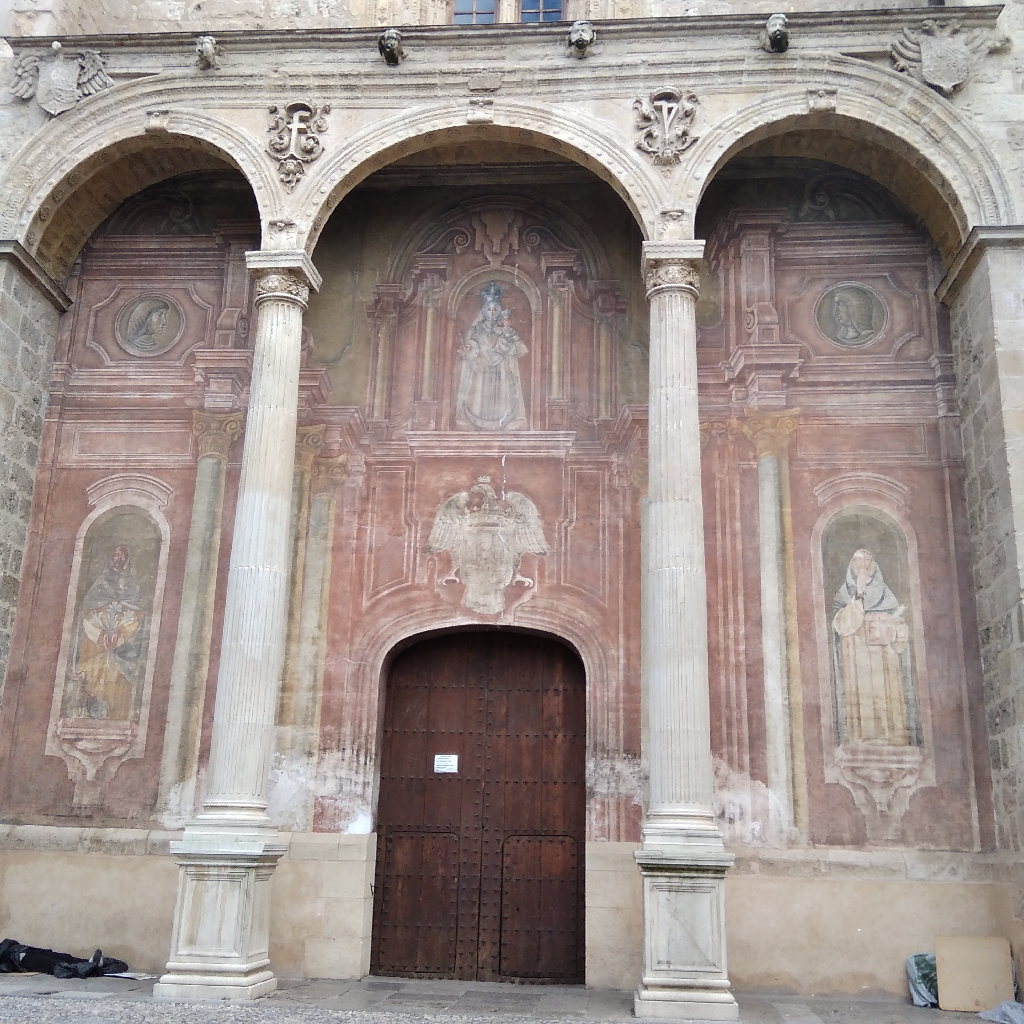arco-medio-punto: (291, 105, 669, 309), (675, 94, 983, 311), (8, 130, 272, 316)
